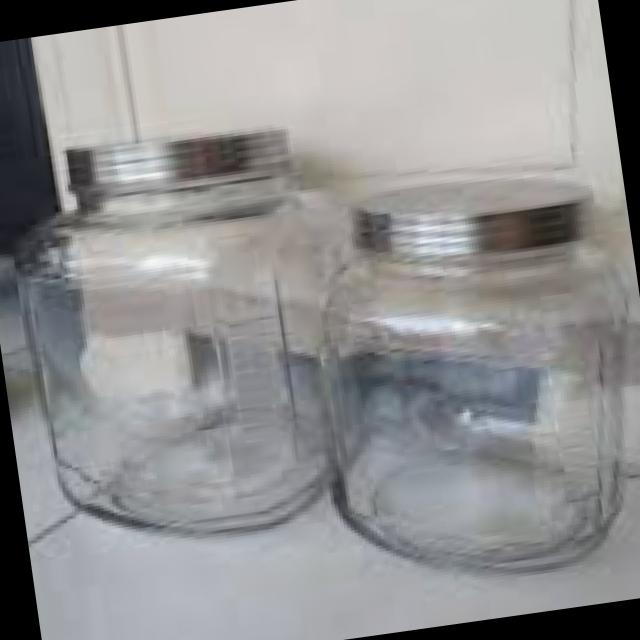ToplesKaca: (0, 105, 396, 556)
